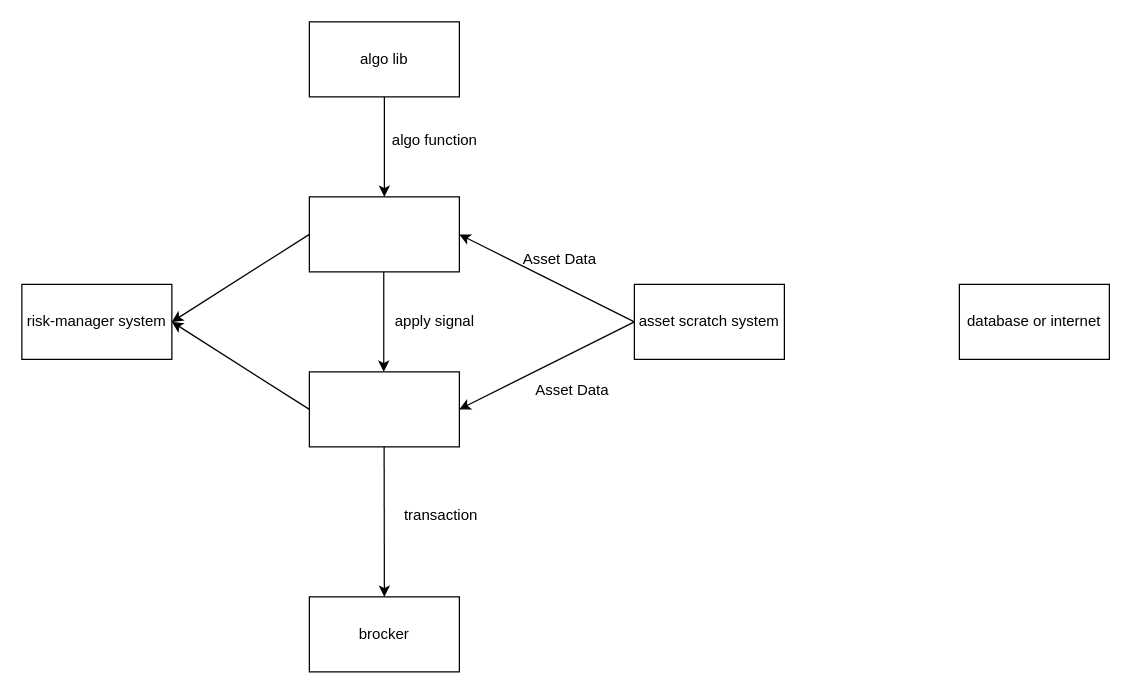
Some shapes in this 1131 by 694 pixel diagram are drawn without their labels. The centre of each missing label's shape, as x and y in pixels:
backtest system: the point at 383,234
trade system: the point at 383,409
